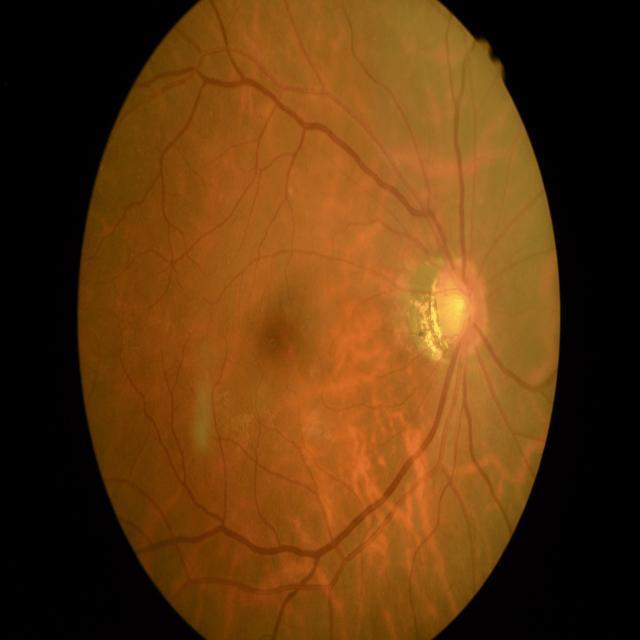cup: (444, 278, 476, 336)
disk: (431, 258, 488, 352)
